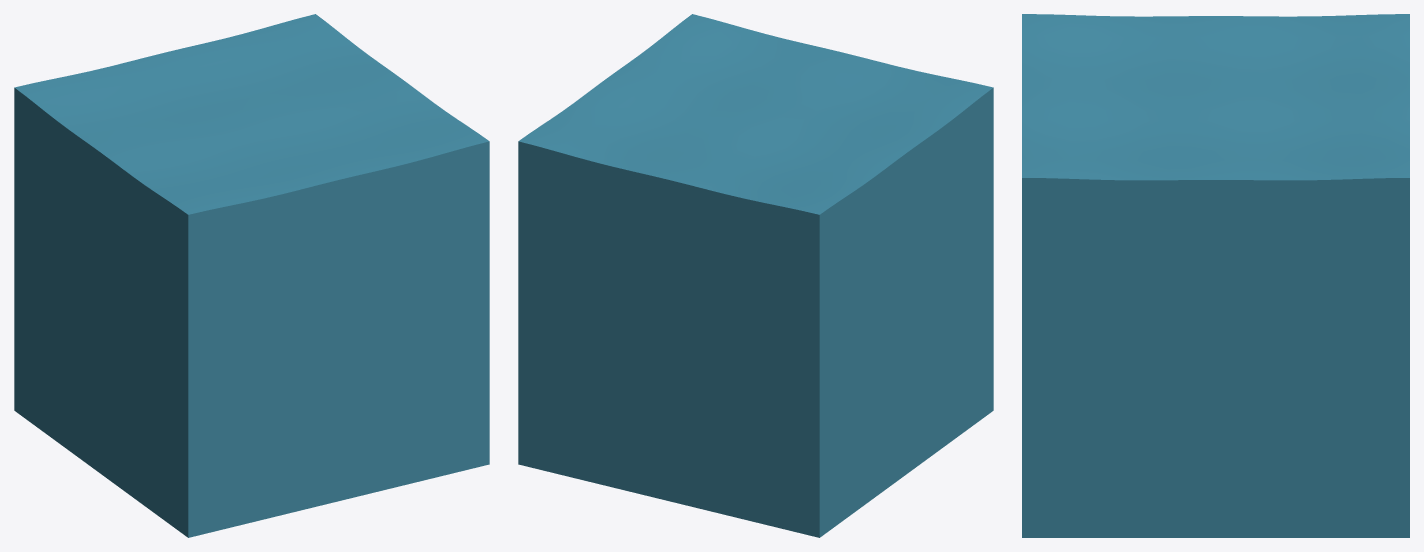
The model's file is slpool_wave41.glb.
3 views of the same model, side by side, from view 1: azimuth 30°, elevation 25°; view 2: azimuth 150°, elevation 25°; view 3: azimuth 270°, elevation 25° (orthographic). The views are drawn at different scales.
Parts seen in each view (by area): view 1: poolWater; view 2: poolWater; view 3: poolWater.
Boxes of the visible parts, bbox=[...] form: poolWater: bbox=[14, 14, 489, 537]; poolWater: bbox=[518, 14, 993, 537]; poolWater: bbox=[1022, 14, 1409, 537].
Size of the model in its own units: 2 by 2.05 by 2.
